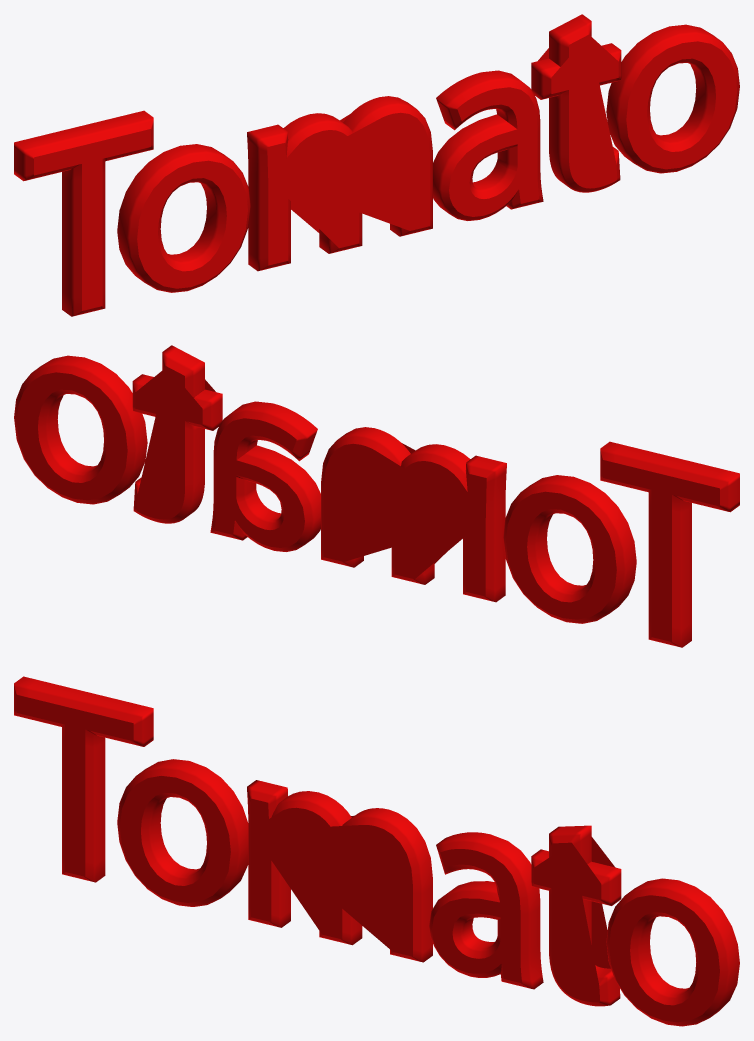
Rendered from Tomato.fbx.
3 renders of one model, top to bottom at view 1: azimuth 30°, elevation 25°; view 2: azimuth 150°, elevation 25°; view 3: azimuth 330°, elevation 25°, orthographic.
Parts seen in each view (by area): view 1: bevelPolygon4, bevelPolygon2, bevelPolygon3, bevelPolygon6, bevelPolygon1, bevelPolygon5; view 2: bevelPolygon4, bevelPolygon2, bevelPolygon3, bevelPolygon6, bevelPolygon1, bevelPolygon5; view 3: bevelPolygon4, bevelPolygon2, bevelPolygon6, bevelPolygon3, bevelPolygon1, bevelPolygon5.
Boxes of the visible parts, x1,y1,x2,y2 form: bevelPolygon4: [247, 96, 432, 271]; bevelPolygon2: [433, 70, 543, 220]; bevelPolygon3: [117, 144, 250, 292]; bevelPolygon6: [606, 24, 739, 173]; bevelPolygon1: [14, 110, 153, 316]; bevelPolygon5: [531, 14, 621, 192]; bevelPolygon4: [321, 427, 506, 602]; bevelPolygon2: [210, 401, 320, 551]; bevelPolygon3: [503, 475, 636, 623]; bevelPolygon6: [14, 355, 147, 504]; bevelPolygon1: [600, 441, 739, 647]; bevelPolygon5: [132, 345, 222, 523]; bevelPolygon4: [247, 780, 432, 962]; bevelPolygon2: [429, 832, 543, 989]; bevelPolygon6: [606, 878, 739, 1026]; bevelPolygon3: [117, 759, 248, 906]; bevelPolygon1: [14, 676, 153, 882]; bevelPolygon5: [531, 825, 621, 1006].
Bounding box in the file's own units: 10.86 × 2.64 × 0.45.
